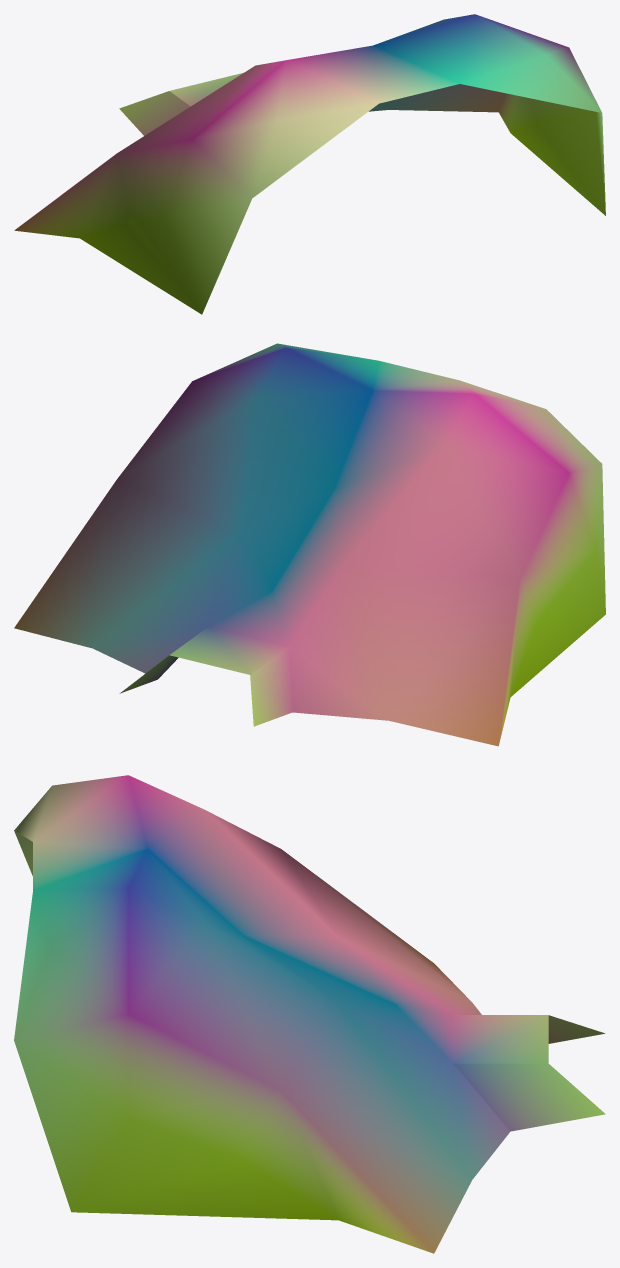
The picture shows the model from 3 angles, top to bottom: view 1: azimuth 30°, elevation 25°; view 2: azimuth 150°, elevation 25°; view 3: azimuth 270°, elevation 25°; orthographic projection. The views are drawn at different scales.
Parts seen in each view (by area): view 1: part; view 2: part; view 3: part.
Boxes of the visible parts, box(x1,y1,x2,y2) form: part: box(14, 14, 605, 314); part: box(14, 343, 605, 746); part: box(14, 775, 605, 1253).
Bounding box in the file's own units: 36 × 16 × 31.
